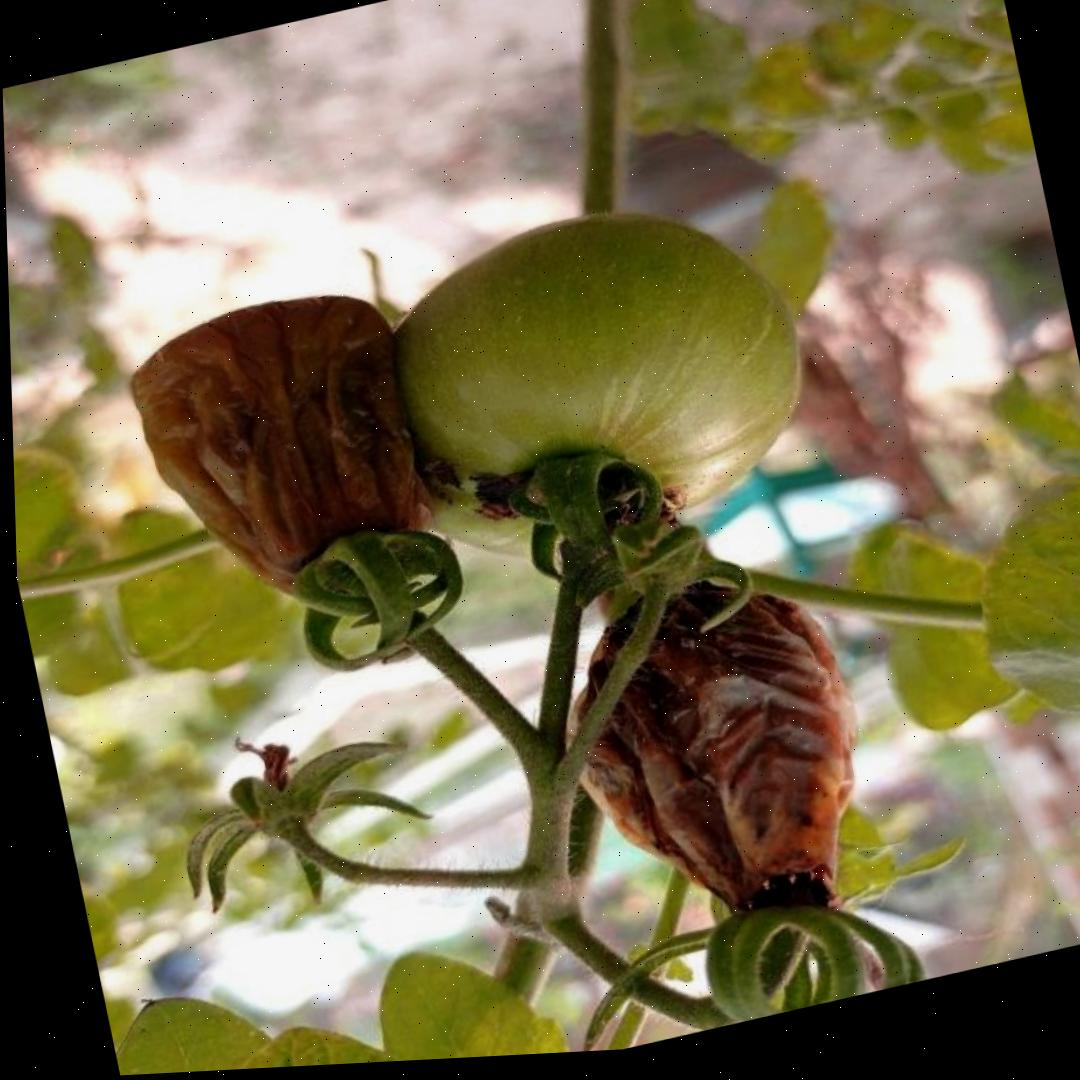mentah: (325, 166, 835, 598)
